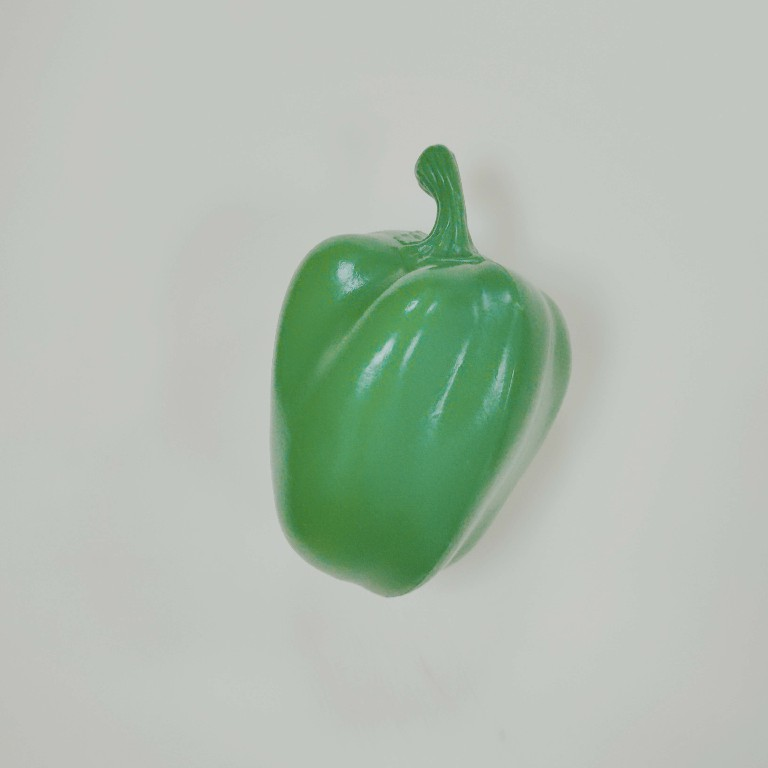fruit_pepper: (265, 137, 577, 604)
